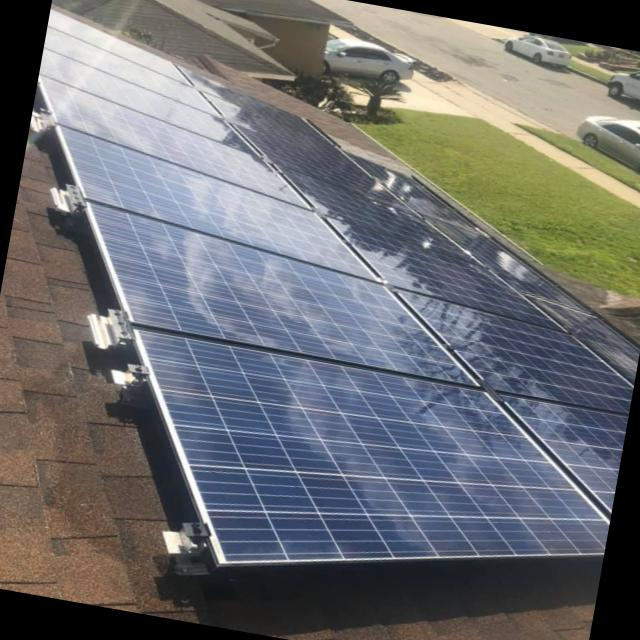no faulty: (37, 23, 632, 555)
